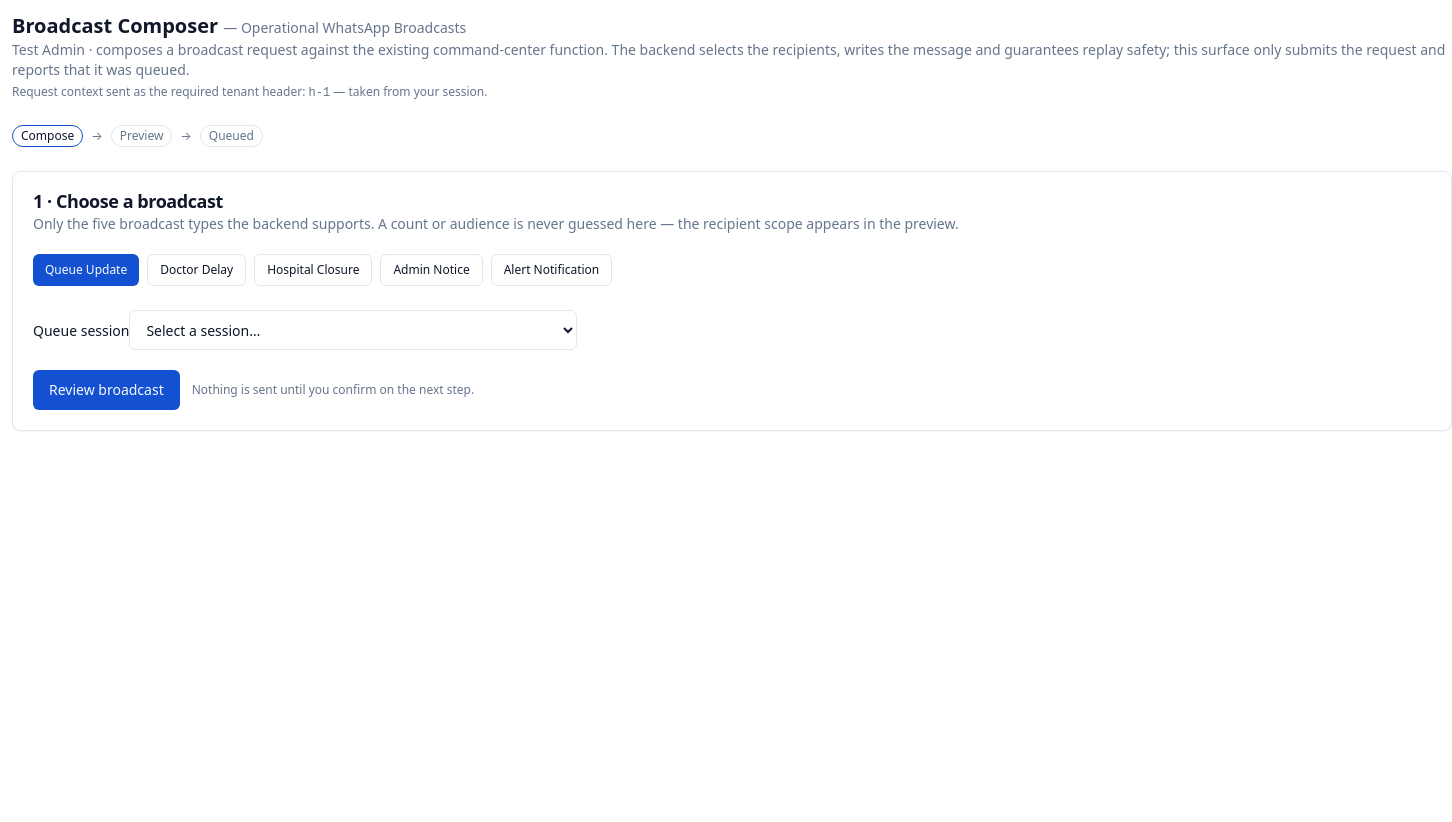
preview → confirm → queued › shows type, recipient scope and no invented count on the preview
Step 1. Select "Dr. Rao" in the dropdown with test id "bc-session" → (353, 330), box [129,310,577,350]
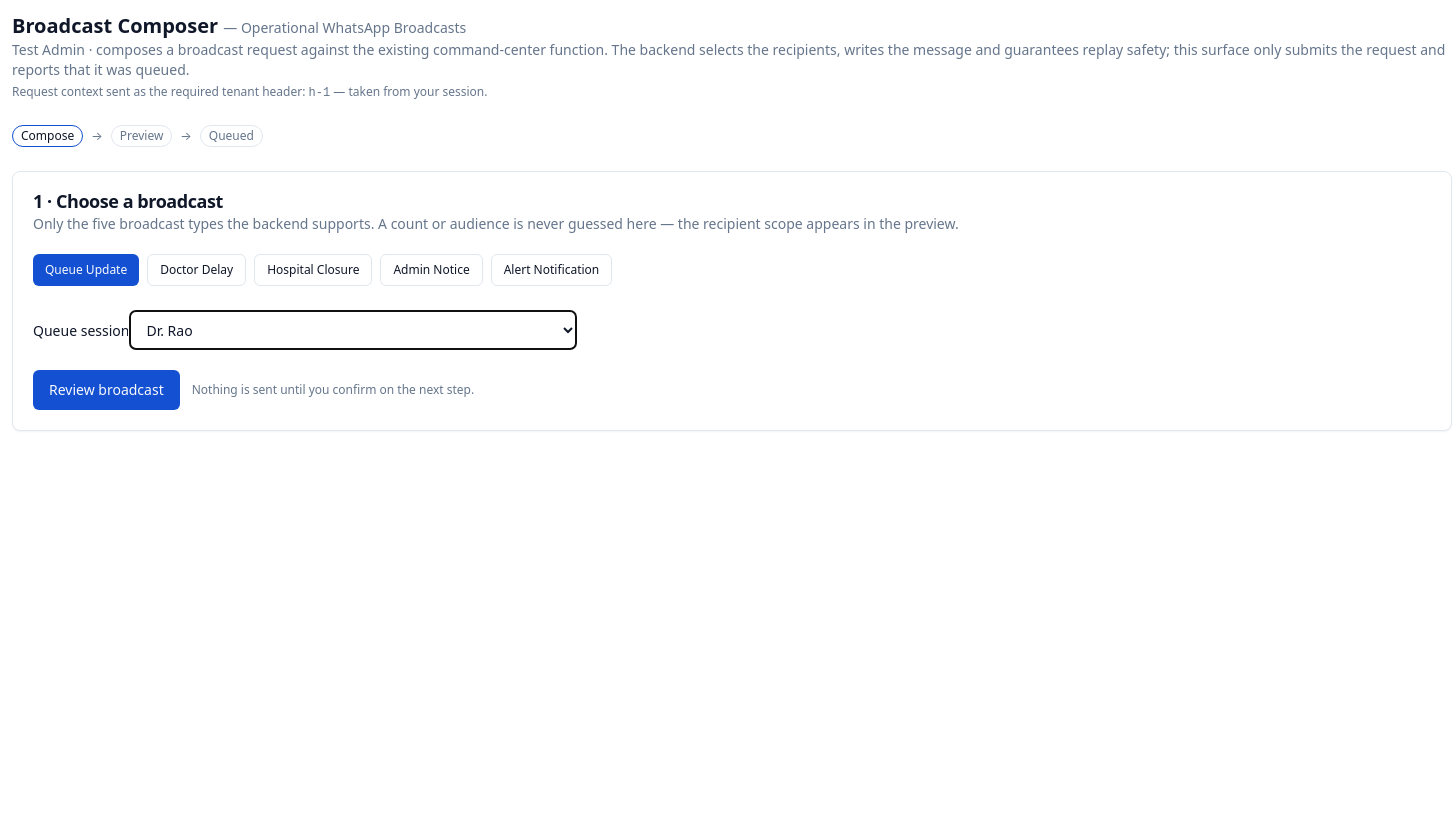
Step 2. Click the button with test id "to-preview" → (106, 390), box [33,370,180,410]
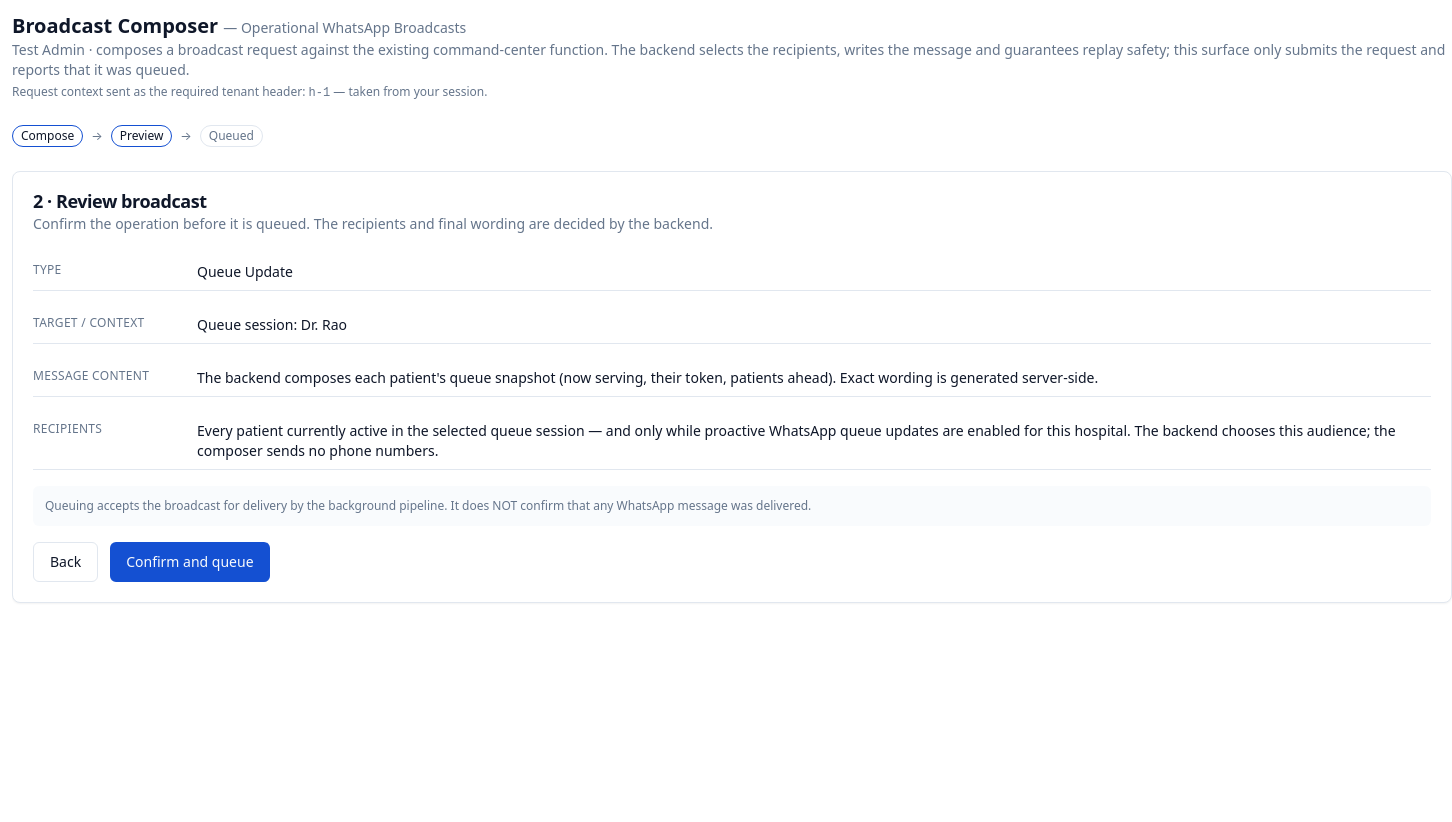
Check: the button with test id "confirm-queue" is shown, box [110,542,270,582]
Check: the text "Every patient currently active" is shown, box [197,421,1396,460]
